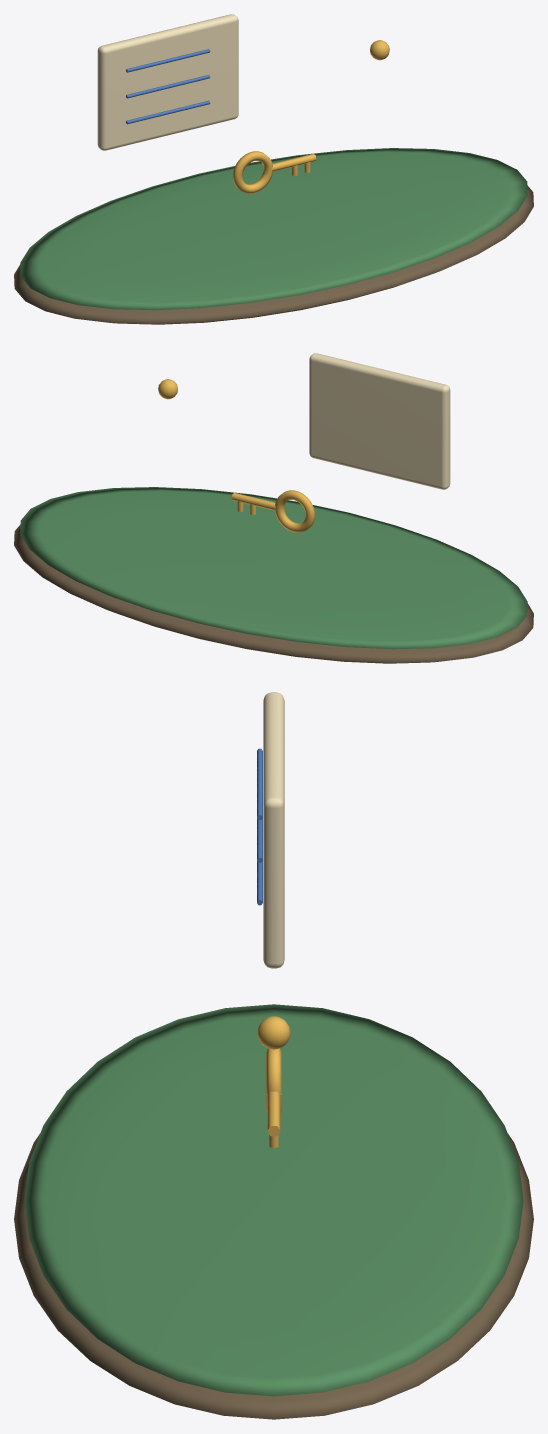
Rendered from complete-first-simple-single-piece.glb.
3 views of the same model, one above another, from view 1: azimuth 30°, elevation 25°; view 2: azimuth 150°, elevation 25°; view 3: azimuth 270°, elevation 25° (orthographic). The views are drawn at different scales.
Visible parts, largest first — view 1: complete-first-simple-single-piece_surface_01, complete-first-simple-single-piece_surface_02, complete-first-simple-single-piece_surface_00, complete-first-simple-single-piece_surface_04, complete-first-simple-single-piece_surface_03; view 2: complete-first-simple-single-piece_surface_01, complete-first-simple-single-piece_surface_02, complete-first-simple-single-piece_surface_00, complete-first-simple-single-piece_surface_04; view 3: complete-first-simple-single-piece_surface_01, complete-first-simple-single-piece_surface_00, complete-first-simple-single-piece_surface_02, complete-first-simple-single-piece_surface_04, complete-first-simple-single-piece_surface_03.
Part boxes in pixels (<box>): complete-first-simple-single-piece_surface_01: <box>20,148,527,310</box>; complete-first-simple-single-piece_surface_02: <box>97,14,238,150</box>; complete-first-simple-single-piece_surface_00: <box>14,186,533,324</box>; complete-first-simple-single-piece_surface_04: <box>233,40,389,193</box>; complete-first-simple-single-piece_surface_03: <box>126,49,210,124</box>; complete-first-simple-single-piece_surface_01: <box>20,487,527,649</box>; complete-first-simple-single-piece_surface_02: <box>309,353,450,489</box>; complete-first-simple-single-piece_surface_00: <box>14,525,533,663</box>; complete-first-simple-single-piece_surface_04: <box>158,379,314,532</box>; complete-first-simple-single-piece_surface_01: <box>24,1004,523,1396</box>; complete-first-simple-single-piece_surface_00: <box>14,1134,533,1419</box>; complete-first-simple-single-piece_surface_02: <box>263,692,284,968</box>; complete-first-simple-single-piece_surface_04: <box>257,1016,290,1148</box>; complete-first-simple-single-piece_surface_03: <box>257,748,262,905</box>.
Size of the model in its own units: 4.56 by 2.19 by 2.5.
